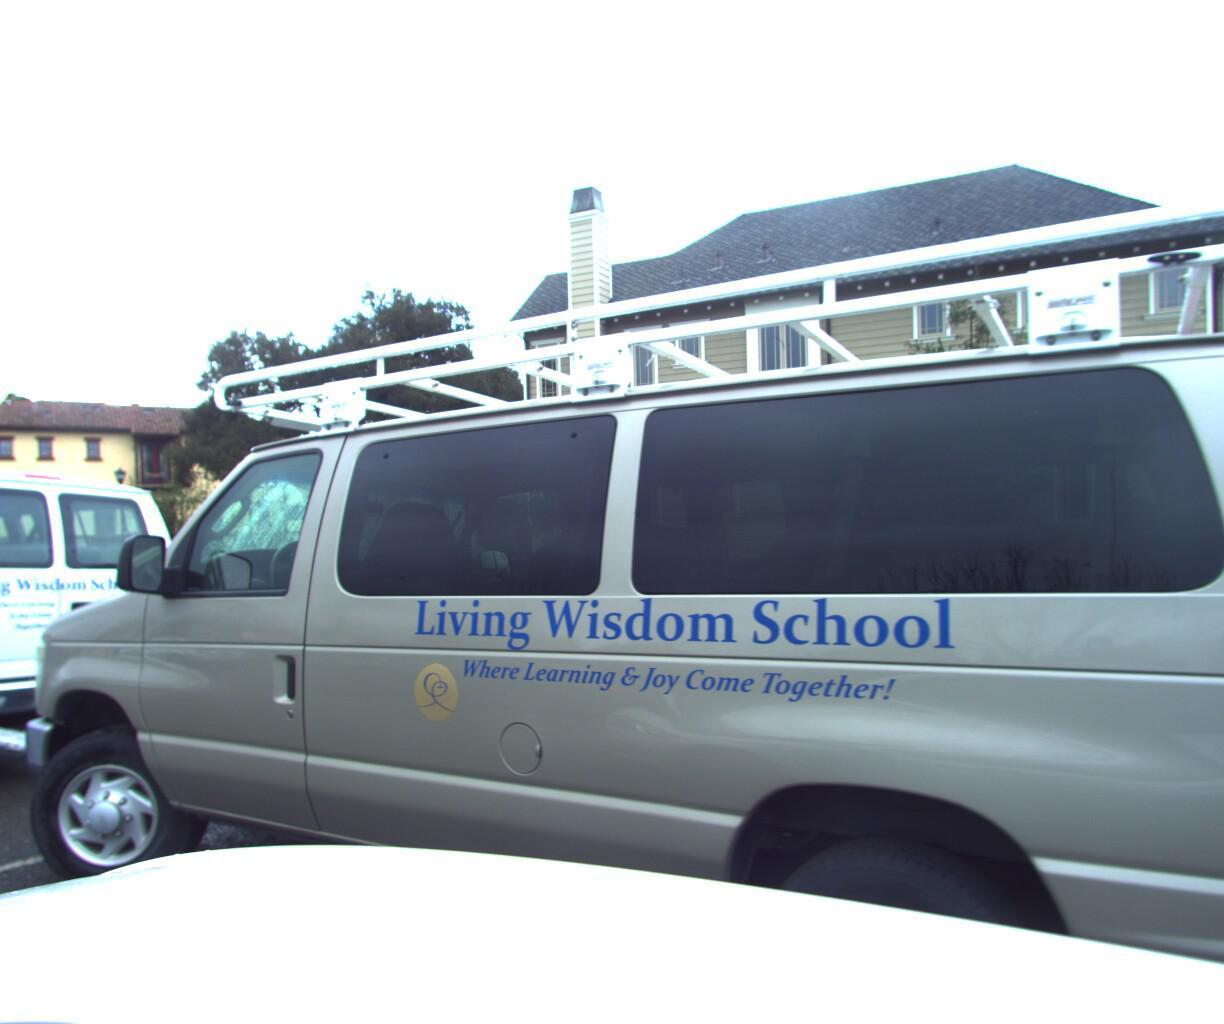car: (0, 232, 1224, 1024), (0, 459, 215, 822)
